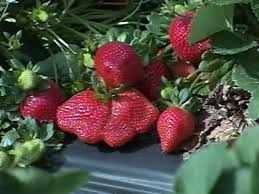ripe: (97, 83, 159, 151), (166, 10, 222, 73), (56, 85, 114, 145), (92, 37, 137, 92), (154, 106, 201, 153), (22, 84, 69, 126)
unripe: (18, 134, 41, 172), (16, 70, 44, 95)
